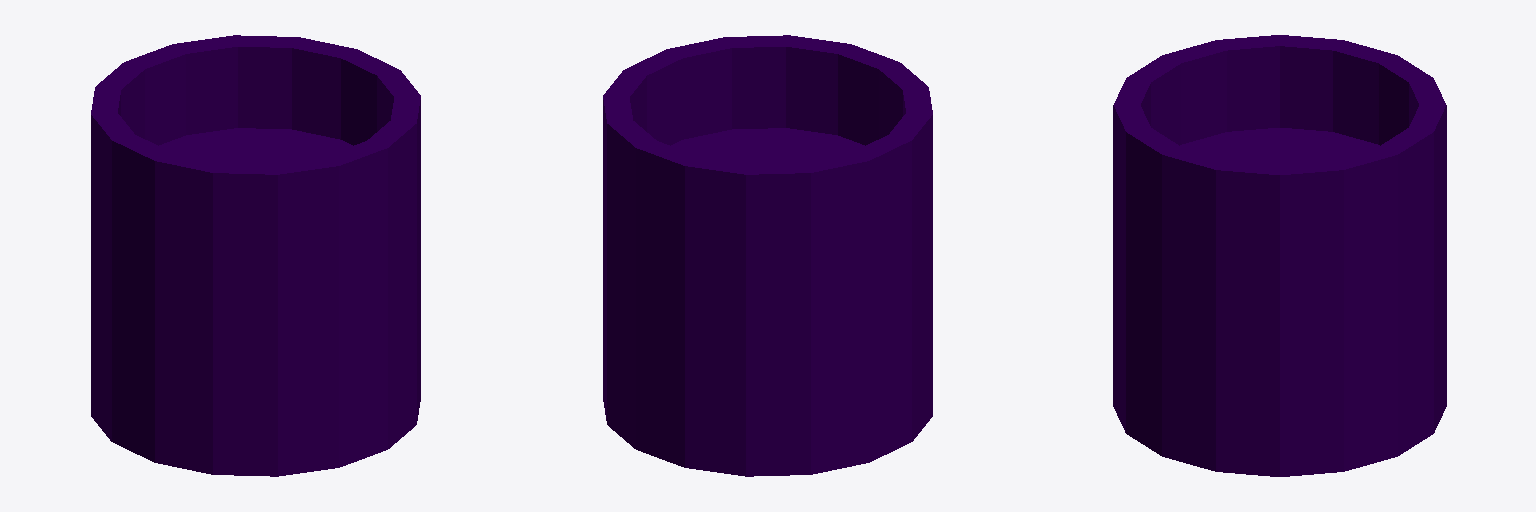
Rendered from BasketMesh.obj.
3 views of the same model, side by side, from view 1: azimuth 30°, elevation 25°; view 2: azimuth 150°, elevation 25°; view 3: azimuth 270°, elevation 25° (orthographic).
Visible parts, largest first — view 1: BasketMesh; view 2: BasketMesh; view 3: BasketMesh.
Part boxes in pixels (x1,y1,x2,y2): BasketMesh: (91,35,420,476); BasketMesh: (603,35,932,476); BasketMesh: (1113,35,1446,476).
Bounding box in the file's own units: 1 × 1 × 1.